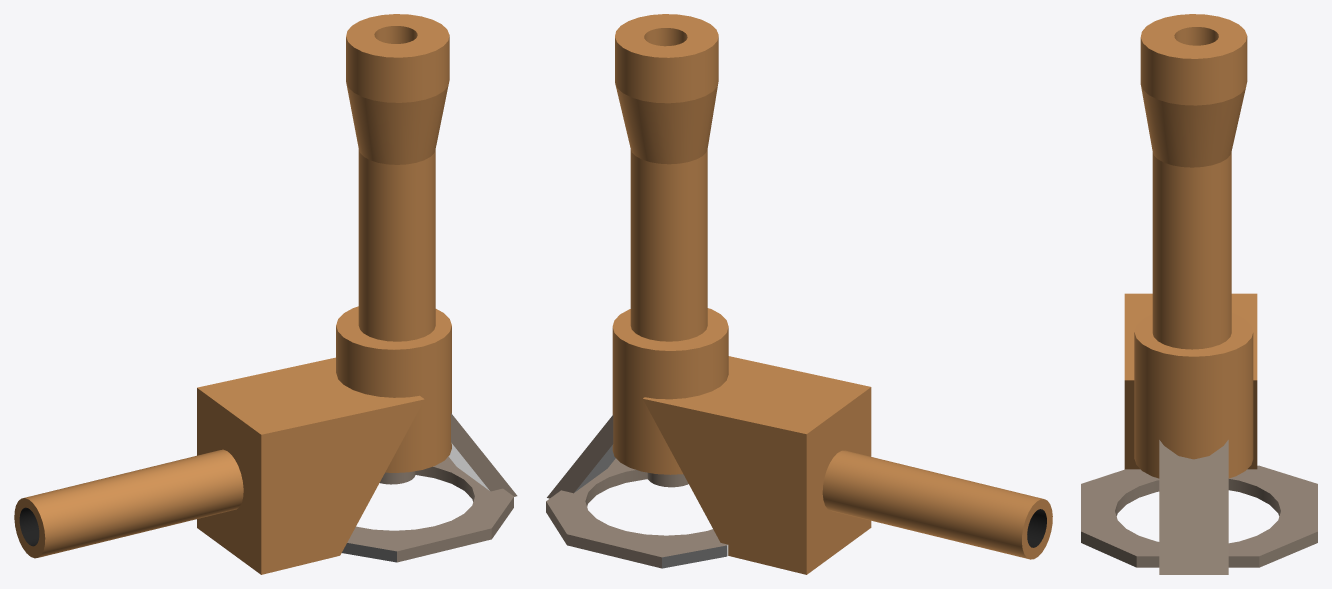
The model's file is bunsen burner.dae.
The picture shows the model from 3 angles, left to right: view 1: azimuth 30°, elevation 25°; view 2: azimuth 150°, elevation 25°; view 3: azimuth 270°, elevation 25°; orthographic projection. The views are drawn at different scales.
Visible parts, largest first — view 1: SketchUp (×7); view 2: SketchUp (×9); view 3: SketchUp (×7).
Part boxes in pixels (x1=…): SketchUp (×7): x1=14, y1=14, x2=517, y2=574; SketchUp (×9): x1=546, y1=14, x2=1052, y2=574; SketchUp (×7): x1=1081, y1=14, x2=1317, y2=574.
Size of the model in its own units: 202 by 85.56 by 194.
